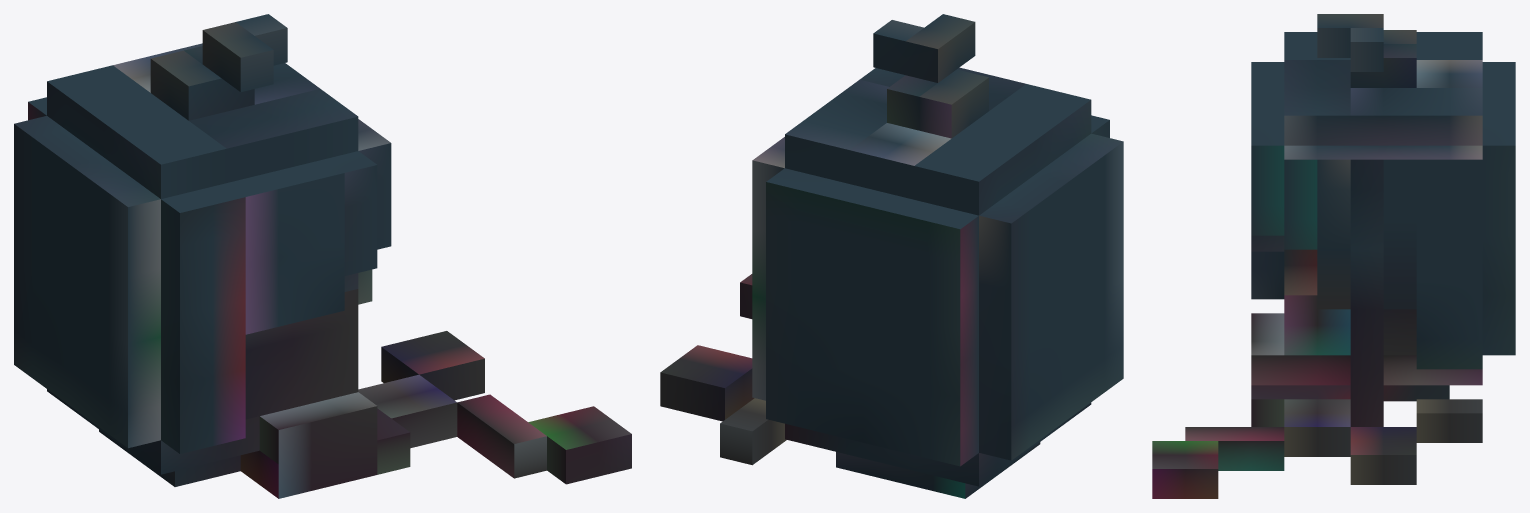
The model's file is Trash_H_00.fbx.
3 renders of one model, left to right at view 1: azimuth 30°, elevation 25°; view 2: azimuth 150°, elevation 25°; view 3: azimuth 270°, elevation 25°, orthographic. The views are drawn at different scales.
Parts seen in each view (by area): view 1: Trash_H_00; view 2: Trash_H_00; view 3: Trash_H_00.
Part boxes in pixels (x1=…): Trash_H_00: x1=14, y1=14, x2=631, y2=498; Trash_H_00: x1=660, y1=14, x2=1123, y2=498; Trash_H_00: x1=1152, y1=14, x2=1515, y2=498.
Size of the model in its own units: 65 by 60 by 55.
